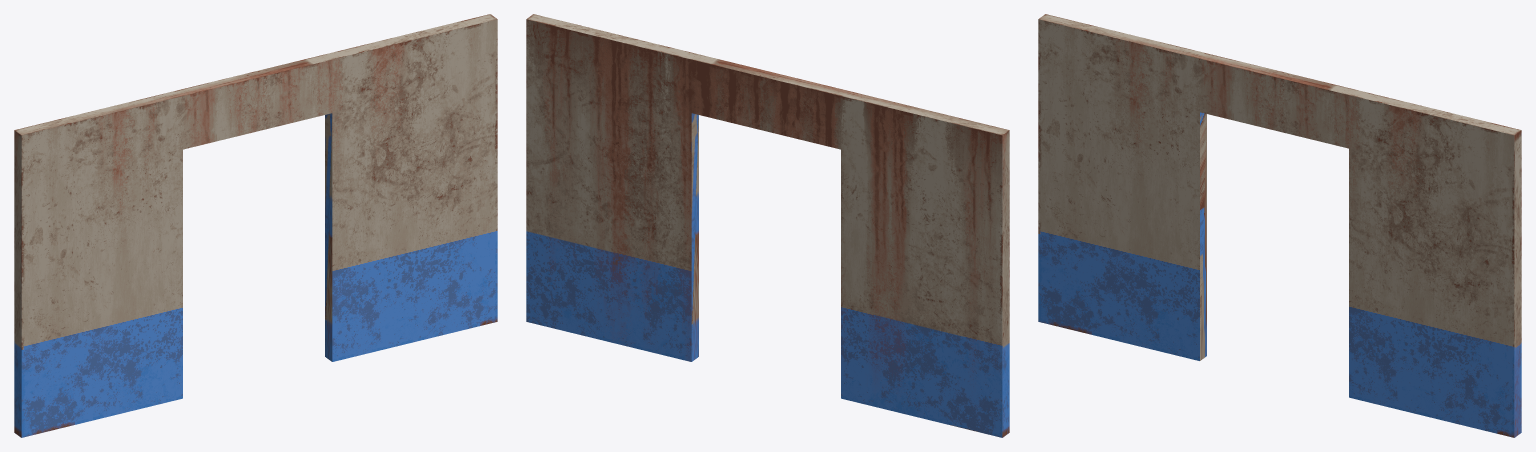
File: wall_door_open.fbx
The picture shows the model from 3 angles, left to right: view 1: azimuth 30°, elevation 25°; view 2: azimuth 150°, elevation 25°; view 3: azimuth 330°, elevation 25°; orthographic projection.
Parts seen in each view (by area): view 1: Box001; view 2: Box001; view 3: Box001.
Boxes of the visible parts, left/top/right/bottom form: Box001: left=14, top=14, right=497, bottom=437; Box001: left=526, top=14, right=1009, bottom=437; Box001: left=1038, top=14, right=1521, bottom=437.
Size of the model in its own units: 166 by 101 by 4.34.
1 material, 1 textured.
